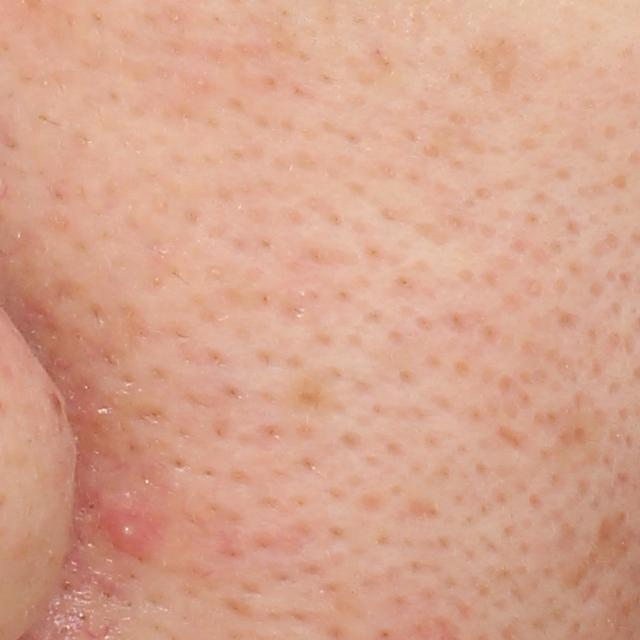atrophic_scar: (246, 524, 321, 559), (490, 424, 537, 459), (402, 498, 442, 523)
